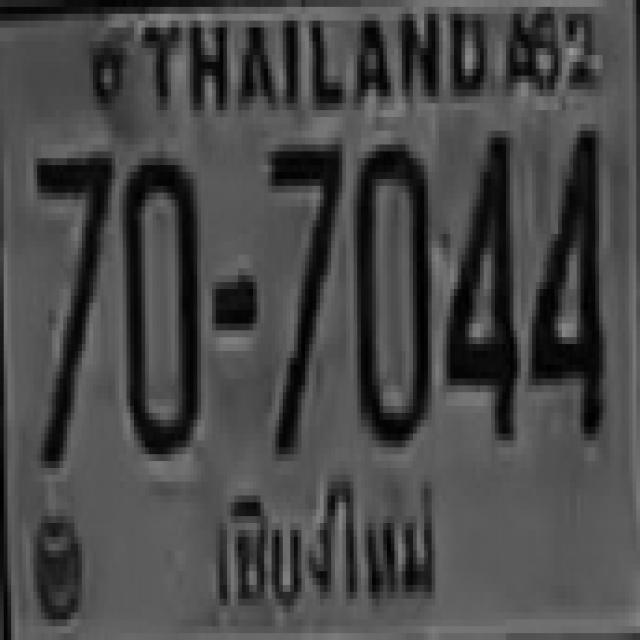0: (121, 152, 199, 448), (353, 137, 428, 440)
4: (528, 124, 599, 433), (443, 124, 513, 433)
7: (33, 148, 108, 458), (268, 138, 339, 447)
ChiangMai: (198, 473, 451, 622)
